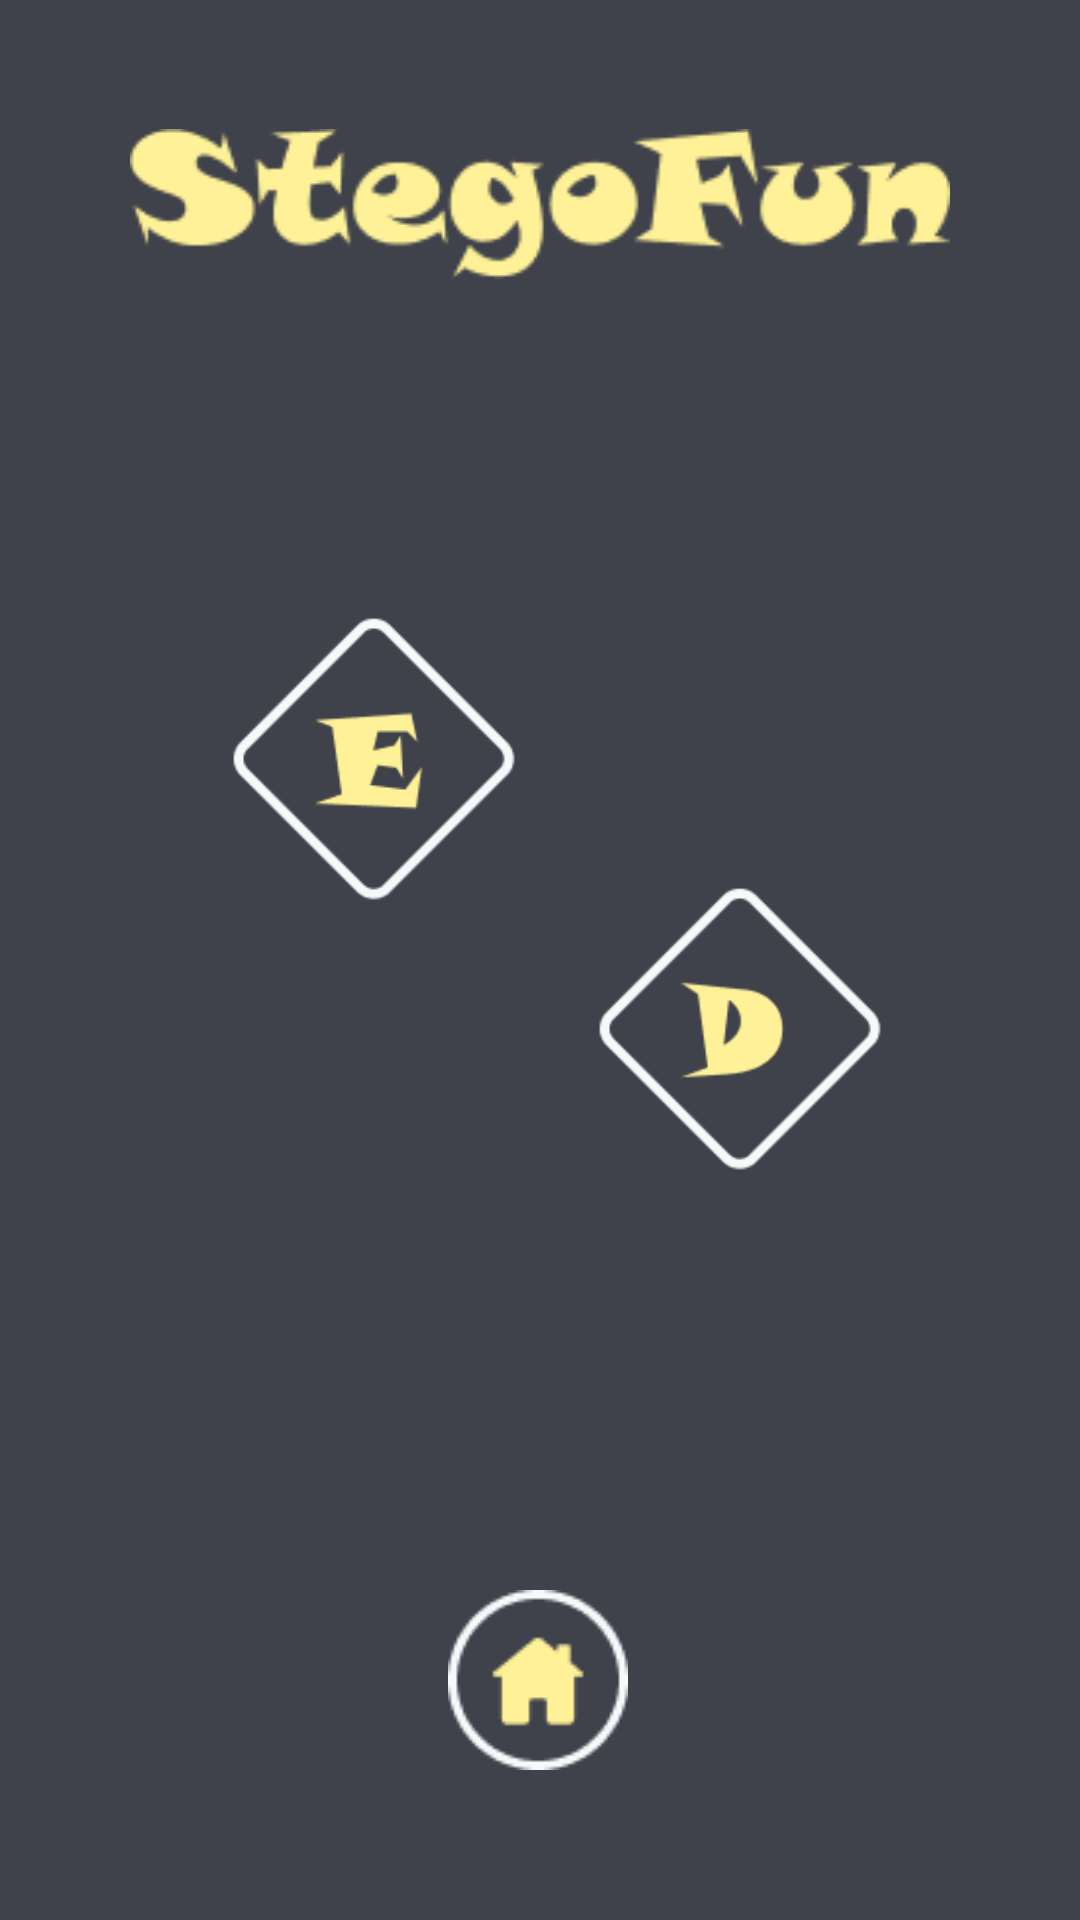

Locate icon controls on the screen. Image size 1080 × 1920, boxes as {"x1": x1, "y1": y1, "x2": x2, "y2": y2}.
home: {"x1": 448, "y1": 1590, "x2": 628, "y2": 1770}
